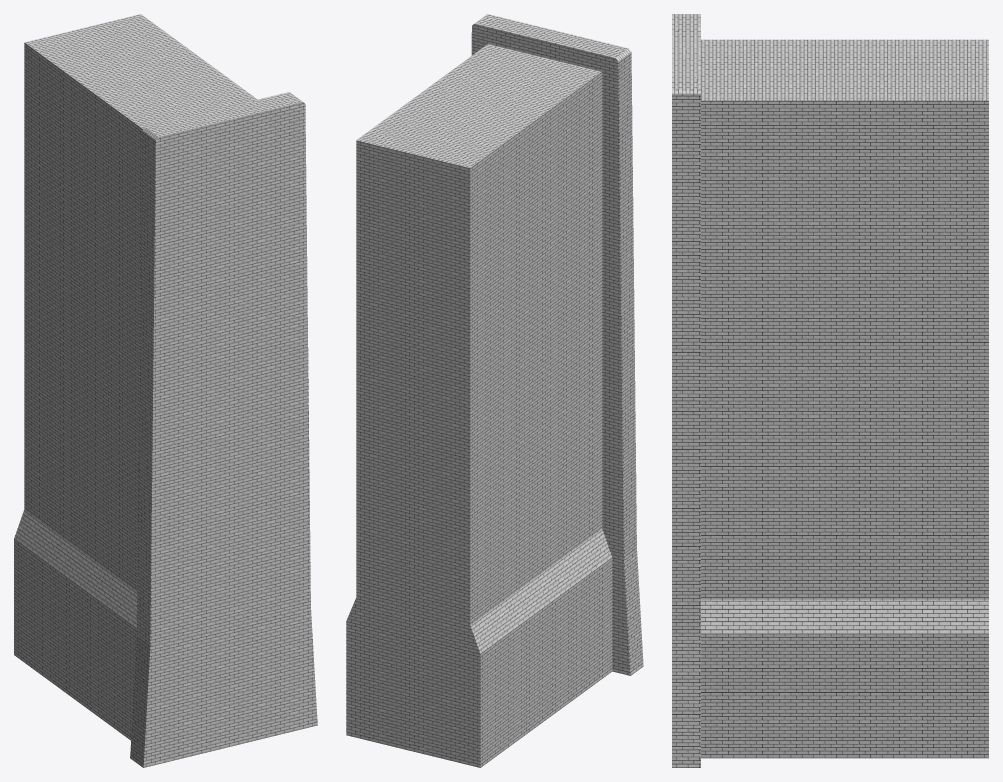
The model's file is wall.fbx.
3 views of the same model, side by side, from view 1: azimuth 30°, elevation 25°; view 2: azimuth 150°, elevation 25°; view 3: azimuth 270°, elevation 25° (orthographic). The views are drawn at different scales.
Visible parts, largest first — view 1: Cube; view 2: Cube; view 3: Cube.
Boxes of the visible parts, x1,y1,x2,y2 form: Cube: (14, 14, 317, 767); Cube: (346, 14, 643, 767); Cube: (672, 14, 988, 767).
Bounding box in the file's own units: 1498 × 5141 × 2200.
